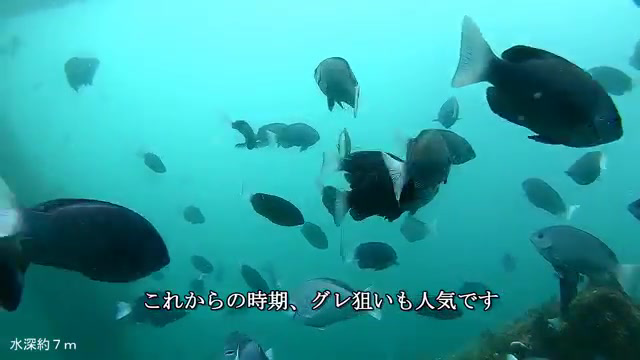gure: (452, 7, 629, 152), (1, 184, 178, 301), (526, 215, 638, 294)
smallfish: (514, 177, 583, 231), (336, 238, 403, 275), (54, 57, 107, 91)
